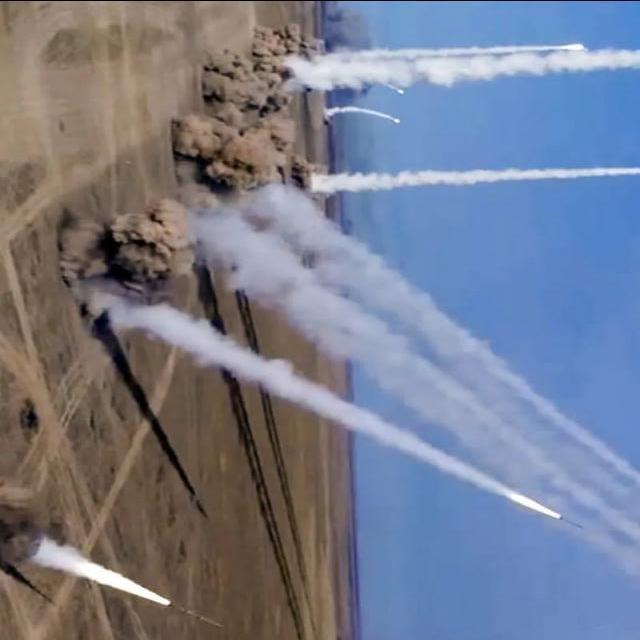missile: (168, 598, 230, 633), (556, 513, 586, 536)
